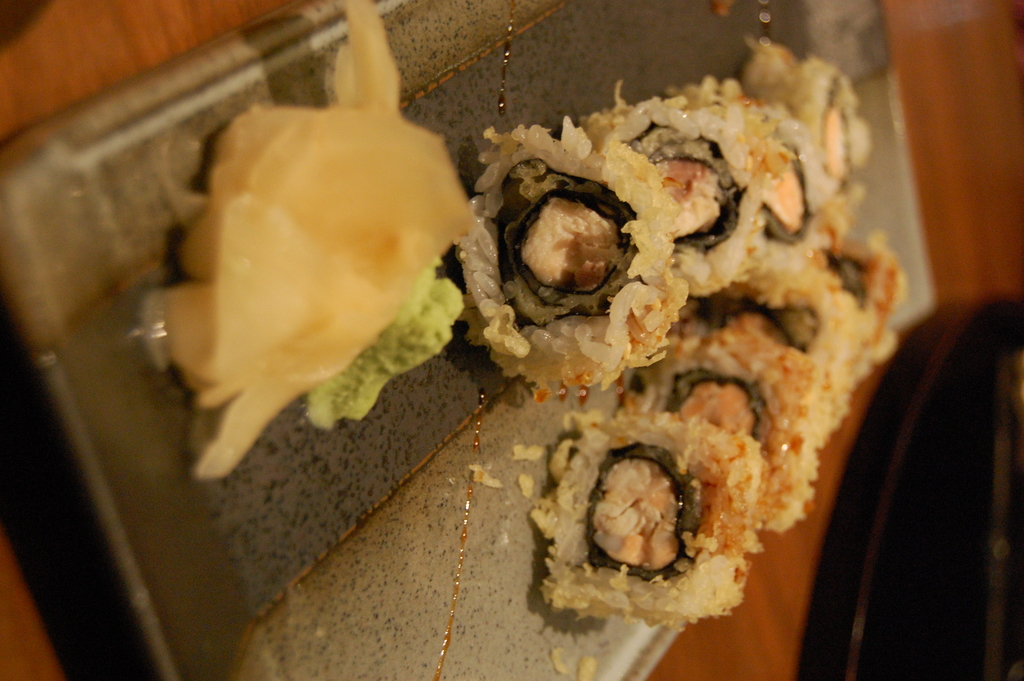sushi: (456, 37, 913, 620), (458, 120, 689, 398)
